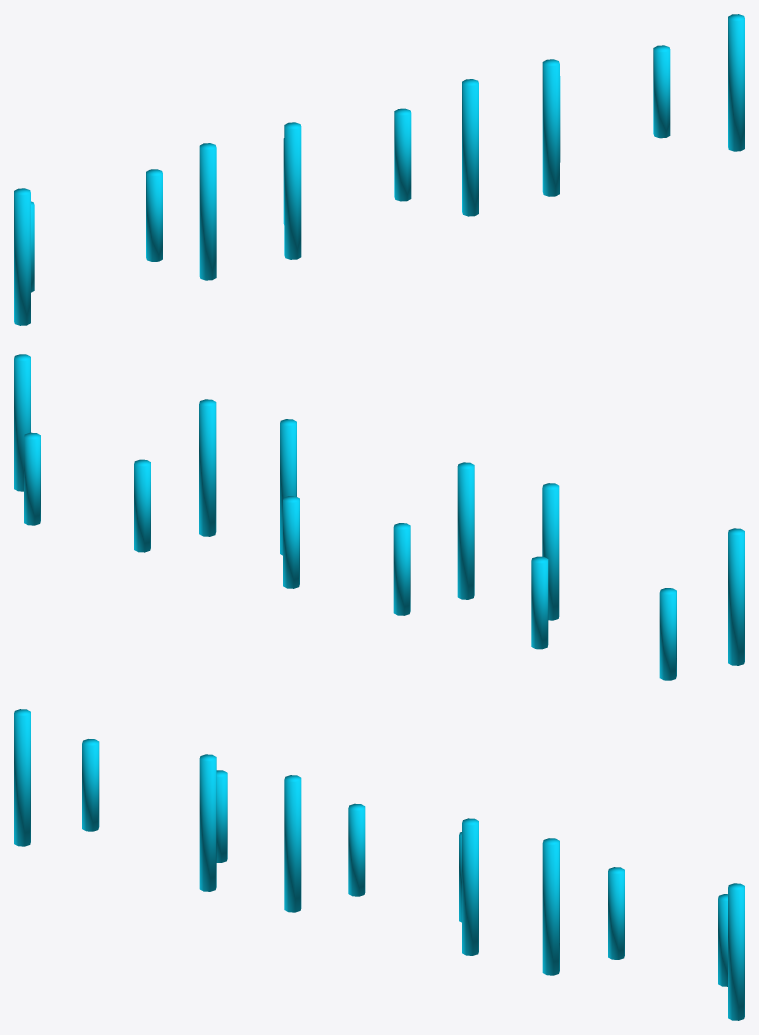
Rendered from Stockadepillars_low.fbx.
The picture shows the model from 3 angles, top to bottom: view 1: azimuth 30°, elevation 25°; view 2: azimuth 150°, elevation 25°; view 3: azimuth 330°, elevation 25°; orthographic projection.
Parts seen in each view (by area): view 1: 1pillars_low; view 2: 1pillars_low; view 3: 1pillars_low.
Part boxes in pixels (bbox=[...]): 1pillars_low: bbox=[14, 14, 744, 325]; 1pillars_low: bbox=[14, 354, 744, 680]; 1pillars_low: bbox=[14, 709, 744, 1020].
Size of the model in its own units: 14713 by 2513 by 1437.
